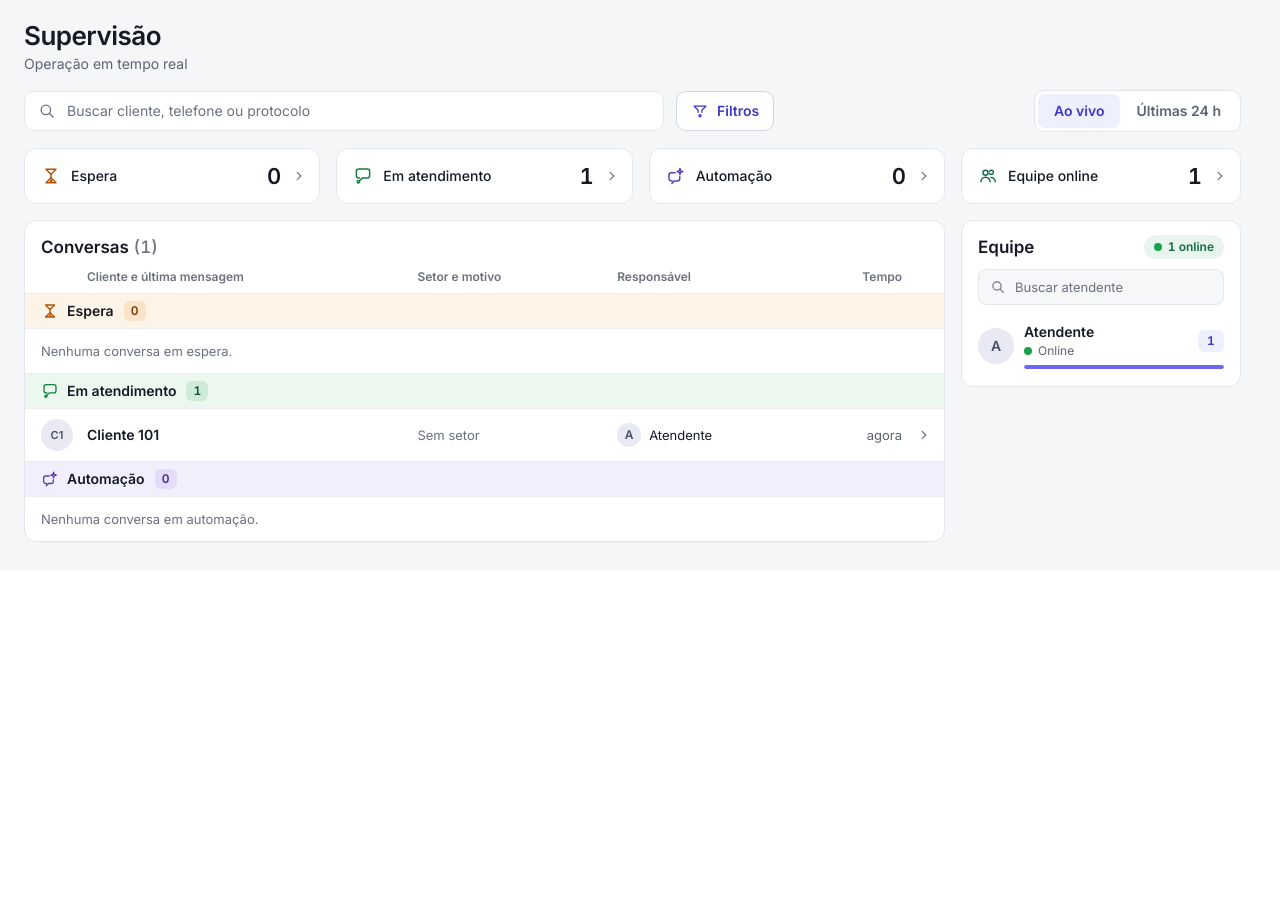
Test case: Supervisão: Transferir e Encerrar por cima do popup › Transferir abre por cima do popup e o "Fechar" devolve o foco ao botão
Step 1. Click the button "C1 Cliente 101 Sem setor A Atendente agora" → (57, 435), box x1=25 y1=409 x2=944 y2=461
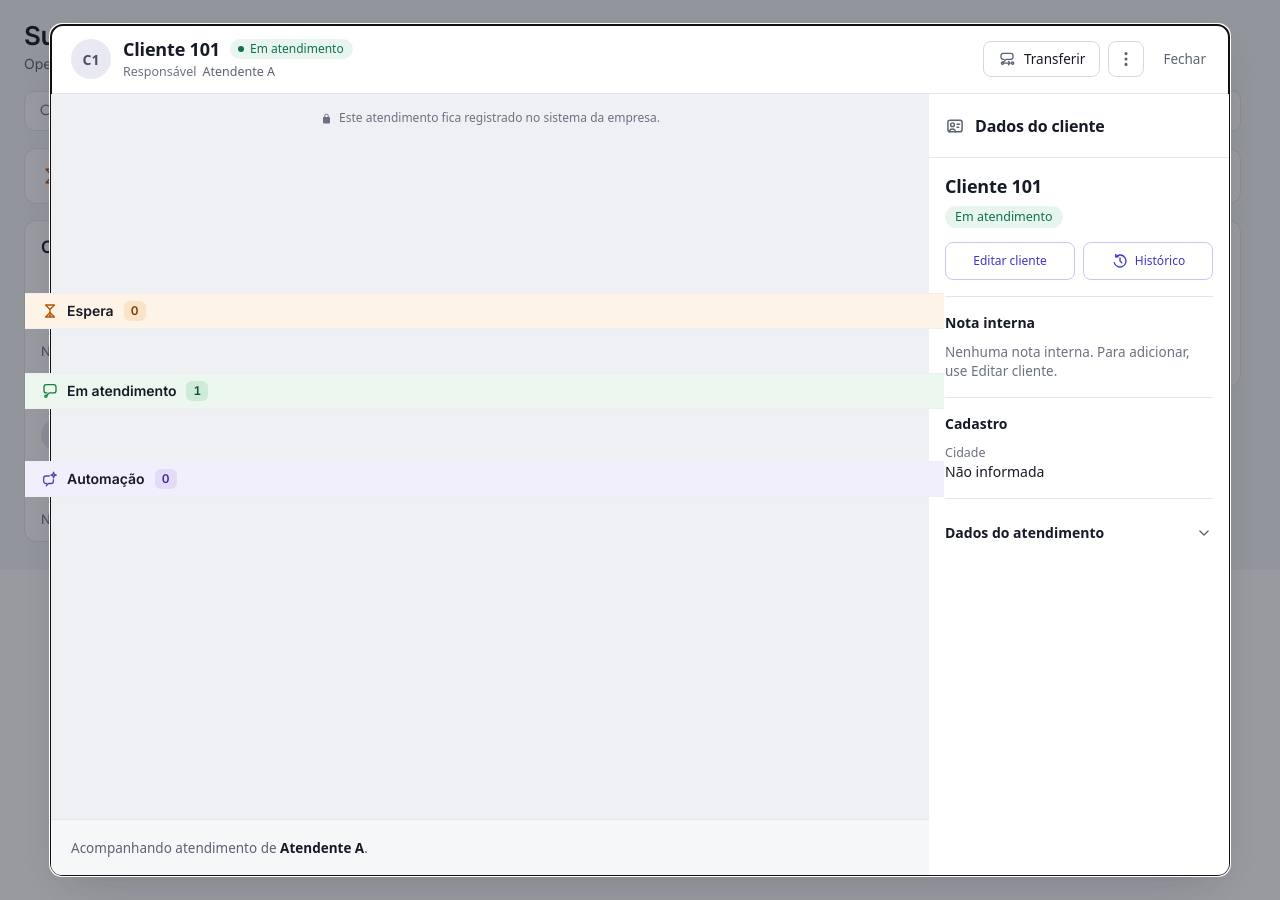
Step 2. Click the button with aria-label "Transferir atendimento" → (1042, 59), box x1=983 y1=41 x2=1100 y2=77
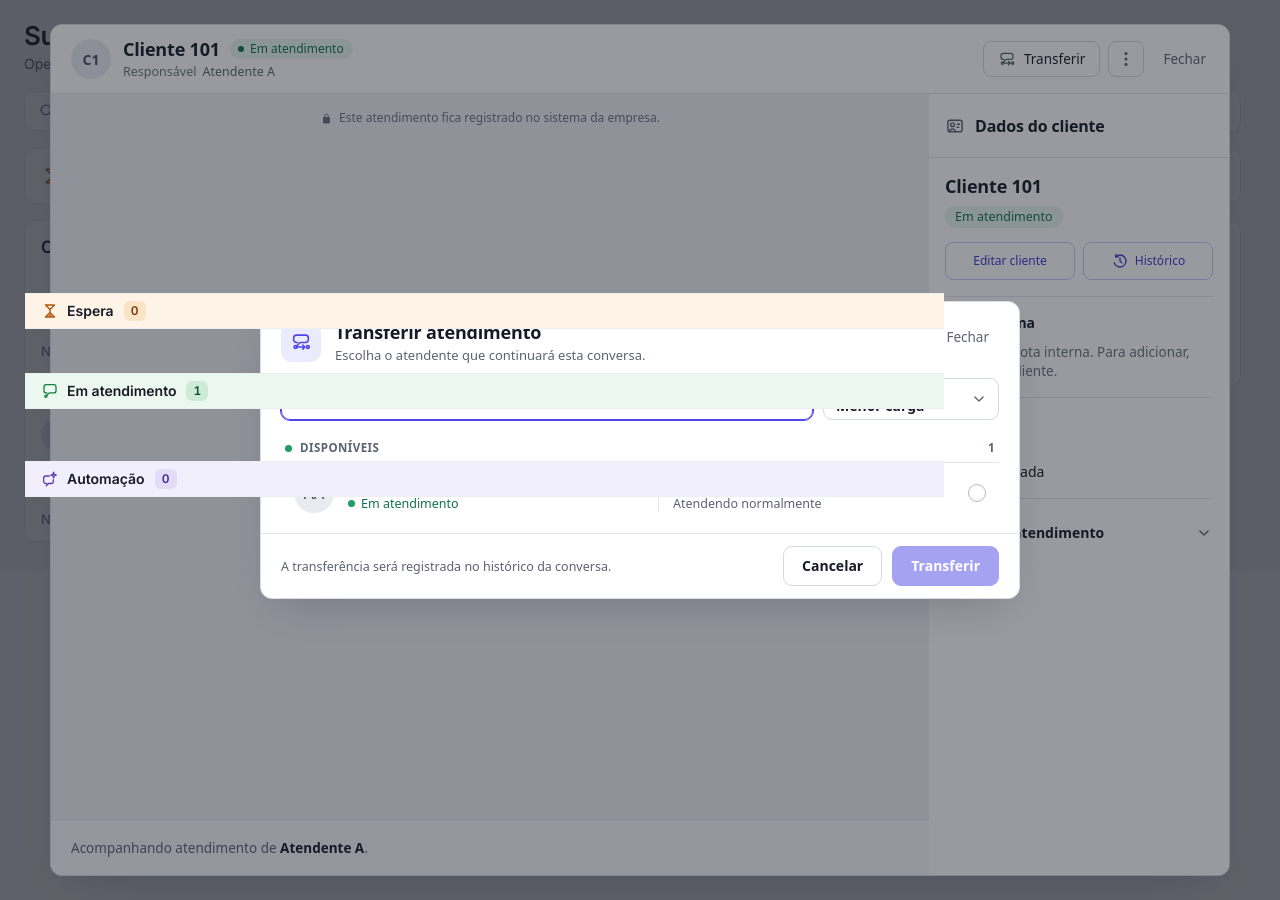
Expected: the radio button labelled "Atendente A" shows "2 atendimentos", x1=281 y1=464 x2=999 y2=522
Step 3. Click the button "Fechar" → (968, 337), box x1=936 y1=320 x2=999 y2=354
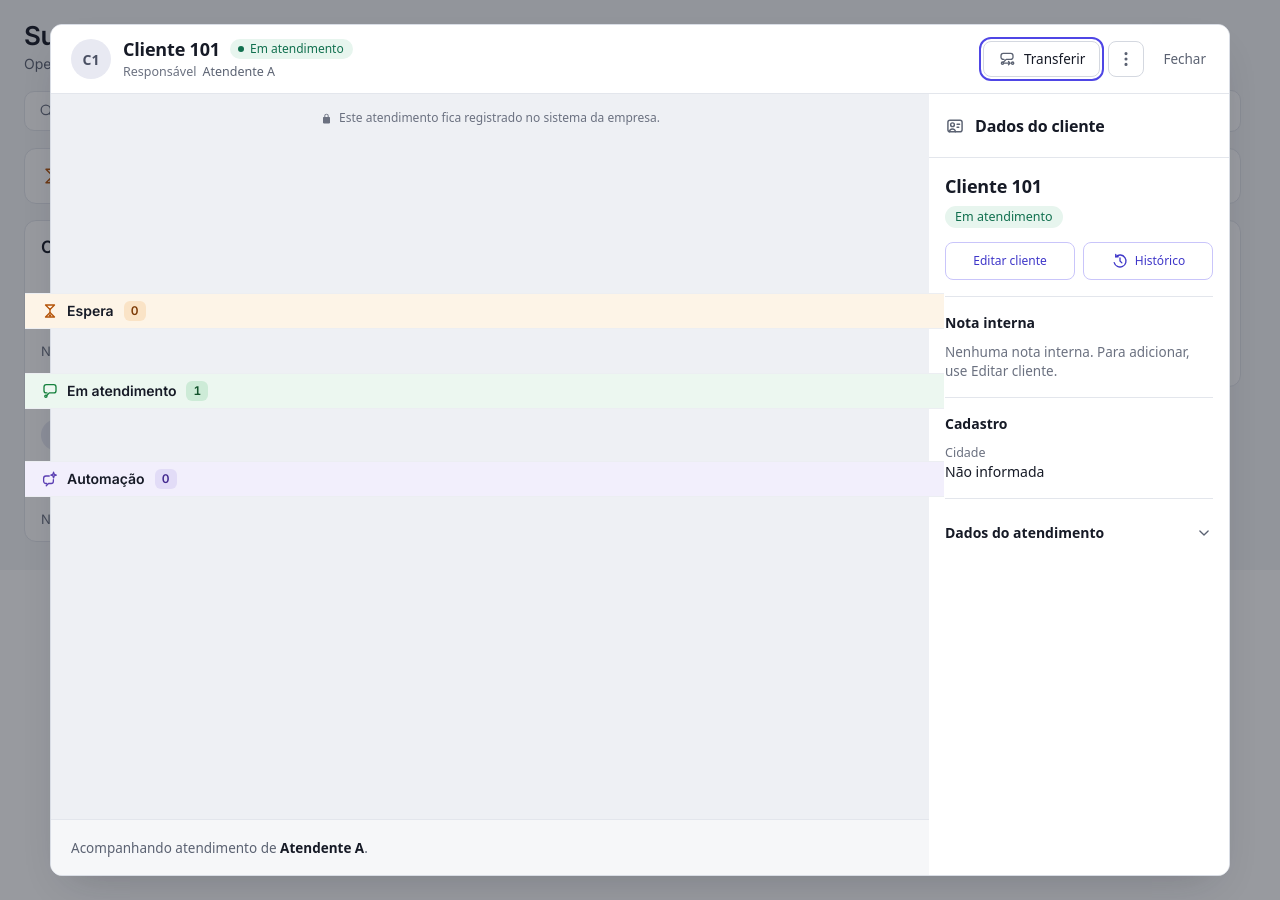
Expected: the dialog named "Conversa com" is shown
Expected: the heading "Transferir atendimento" is gone
